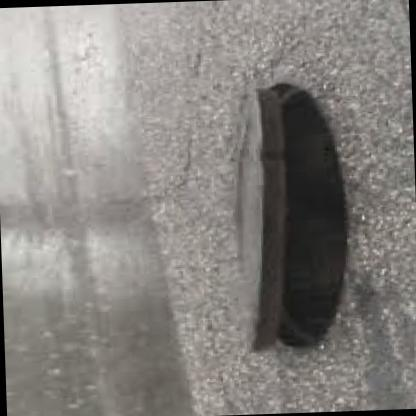manholes: (184, 41, 374, 385)
